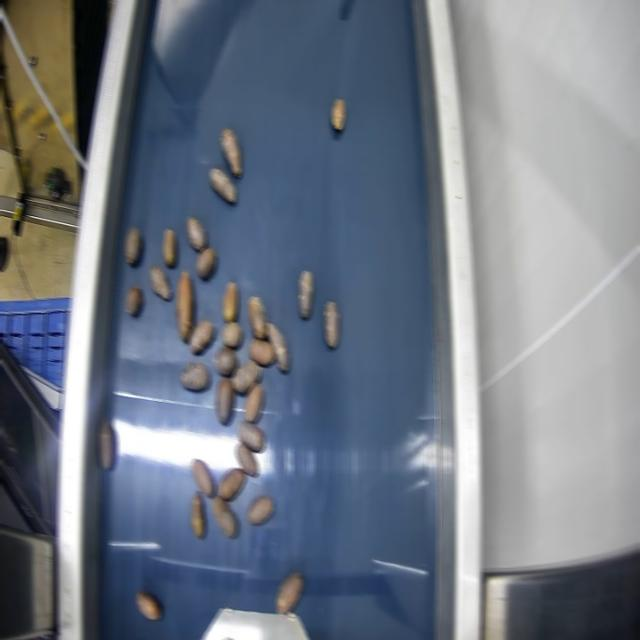Baby Potato: (177, 271, 193, 341), (275, 572, 302, 613), (267, 322, 289, 371), (212, 496, 237, 537), (221, 128, 240, 176), (215, 377, 234, 424), (233, 360, 260, 393), (210, 168, 235, 203), (218, 468, 245, 500), (191, 459, 214, 496), (189, 319, 214, 353), (237, 421, 264, 452), (181, 362, 209, 390), (149, 264, 170, 300), (248, 495, 273, 525), (244, 383, 263, 422), (99, 420, 114, 469), (236, 443, 258, 476), (249, 296, 266, 338), (137, 590, 160, 620), (186, 216, 205, 250), (214, 347, 237, 375), (250, 338, 273, 366), (124, 227, 141, 264), (299, 271, 312, 318), (191, 491, 204, 538), (196, 247, 215, 278), (223, 281, 237, 322), (326, 301, 338, 348), (222, 321, 241, 348), (163, 228, 176, 266), (126, 286, 143, 315), (331, 98, 344, 130)
